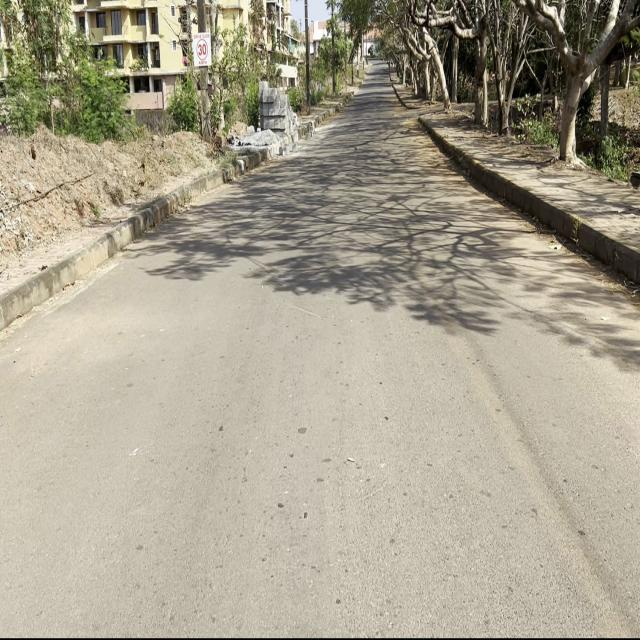Road: (2, 68, 639, 631)
